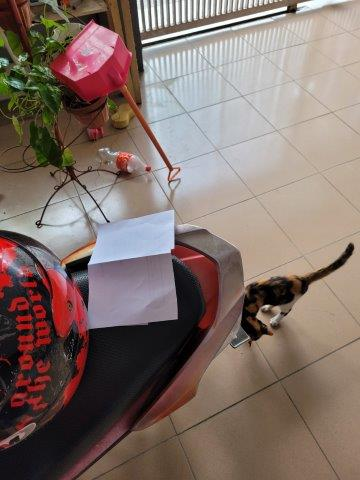botolplastik: (97, 145, 152, 175)
kertas: (87, 210, 177, 325)
